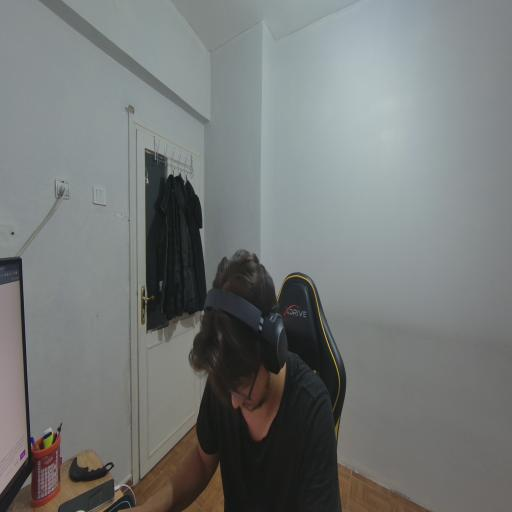cuma-face-v2: (204, 233, 291, 422)
